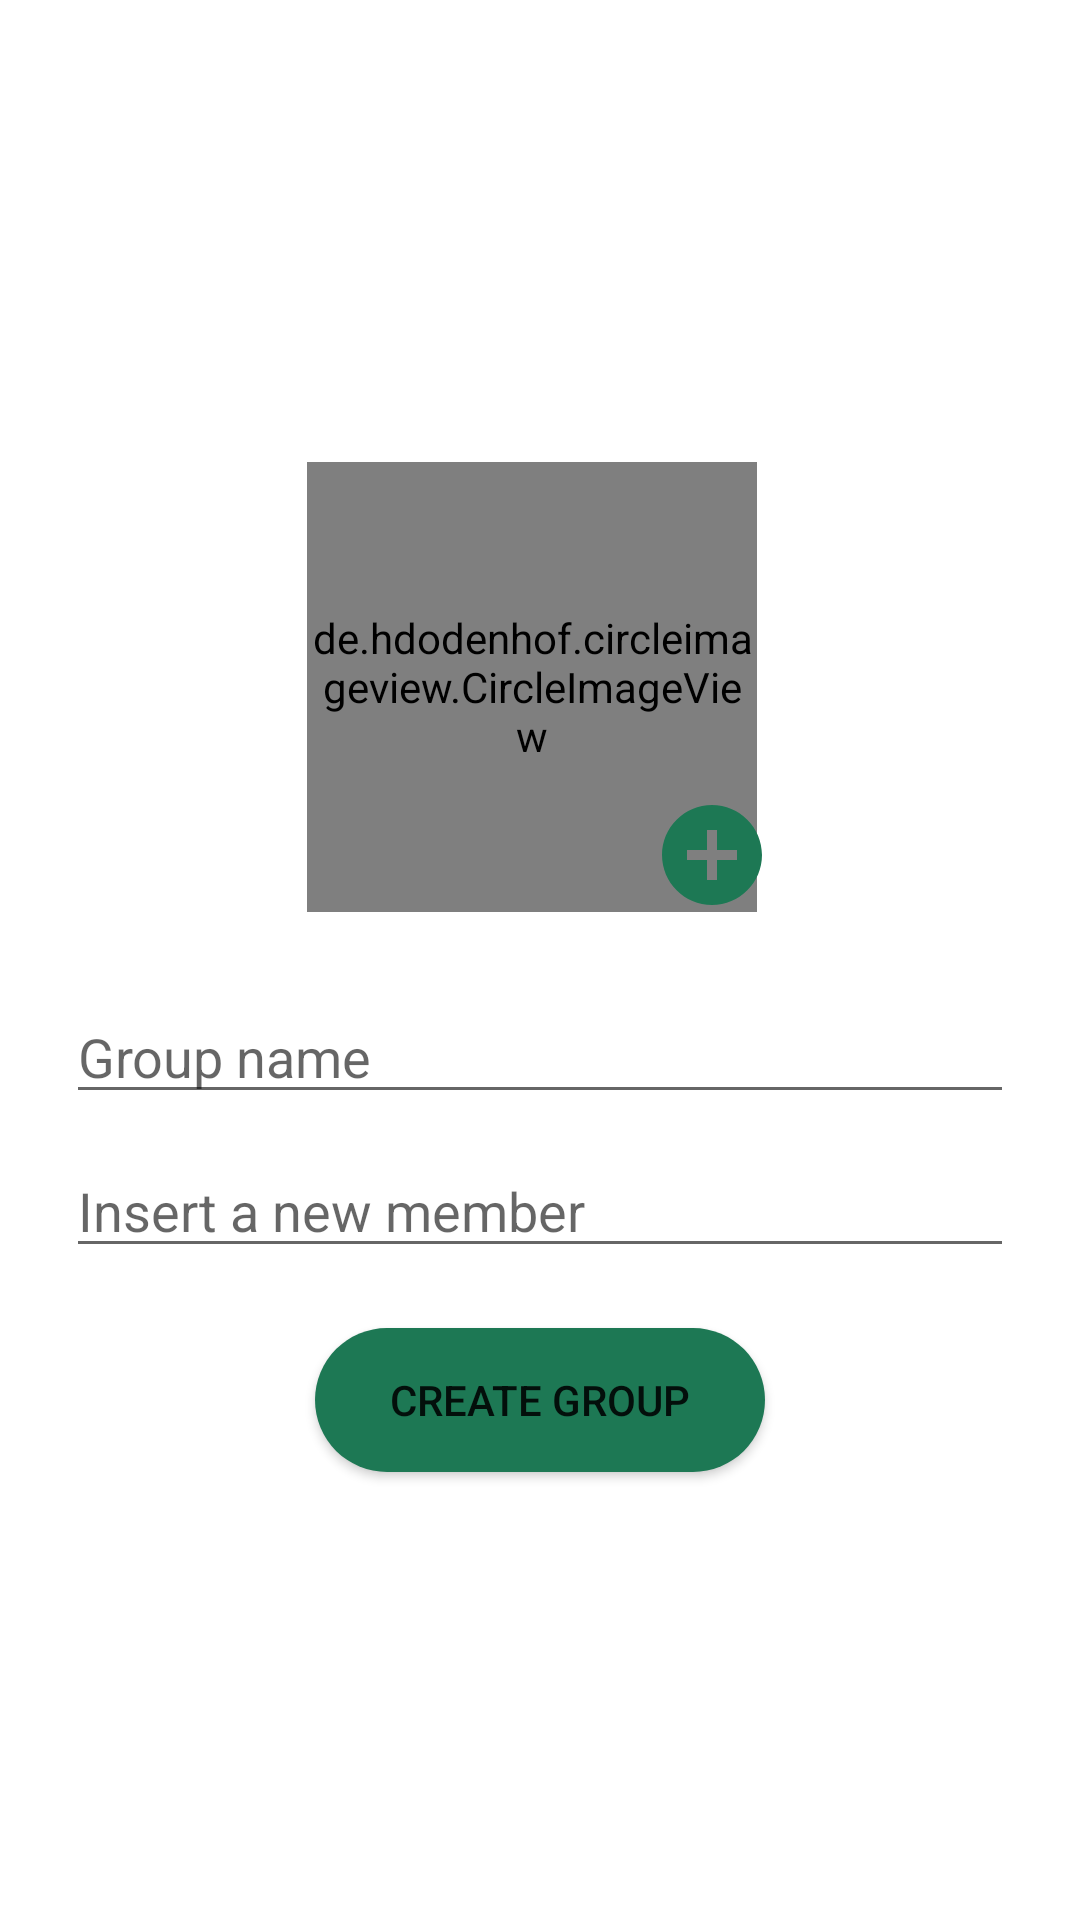

Named icons in this screenshot (1080 x 1920) and their centers, [x,y]:
add circle: [712,855]
